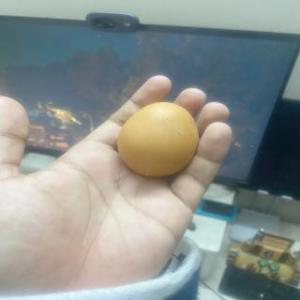egg: (113, 97, 203, 181)
